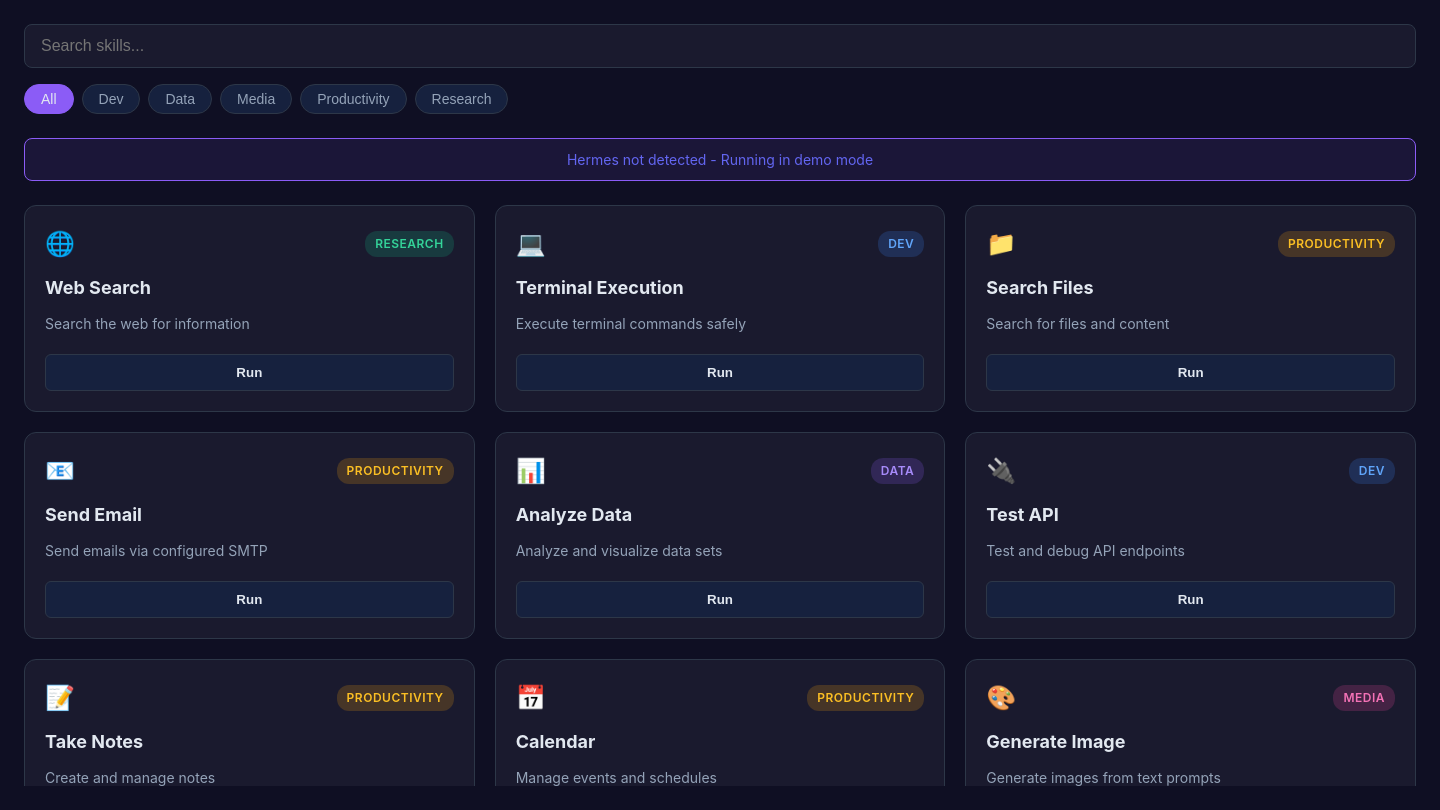
Scenario: Skills Component › displays empty state when no skills match criteria
Type "nonexistent skill name that will not match" into the field with placeholder "Search skills...".
click(720, 46); type("nonexistent skill name that will not match")  # box [24,24,1416,68]
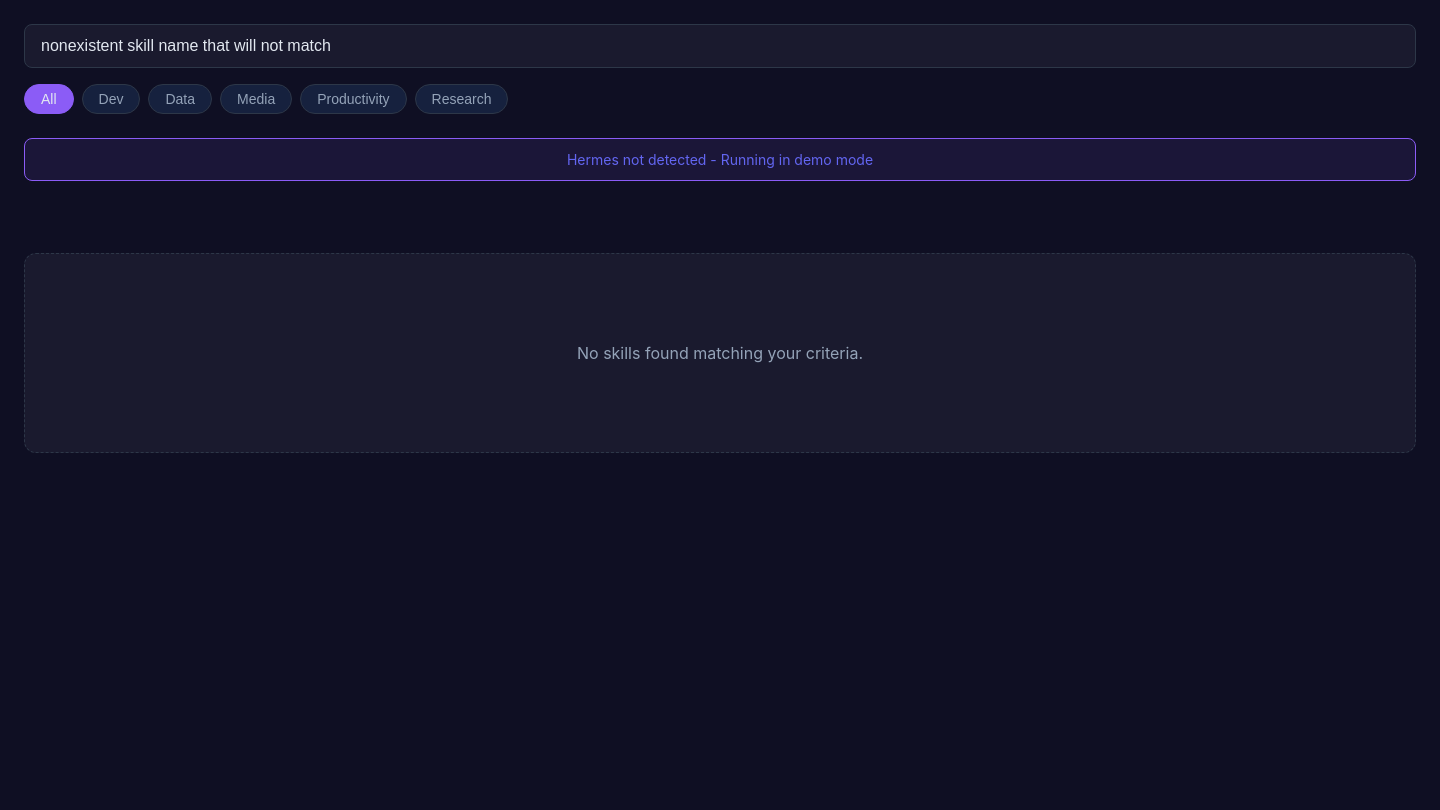
Expected: the text "No skills found matching your criteria." is shown, [24,253,1416,453]
